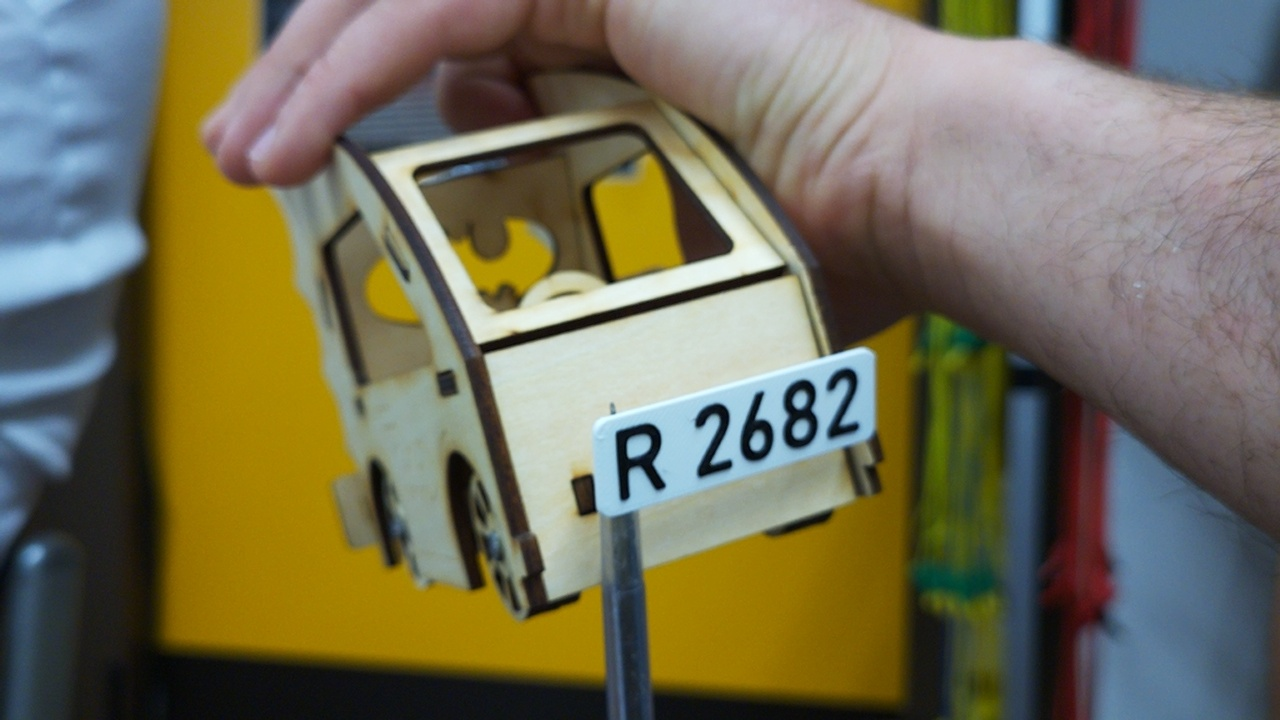license_plate: (589, 346, 879, 520)
